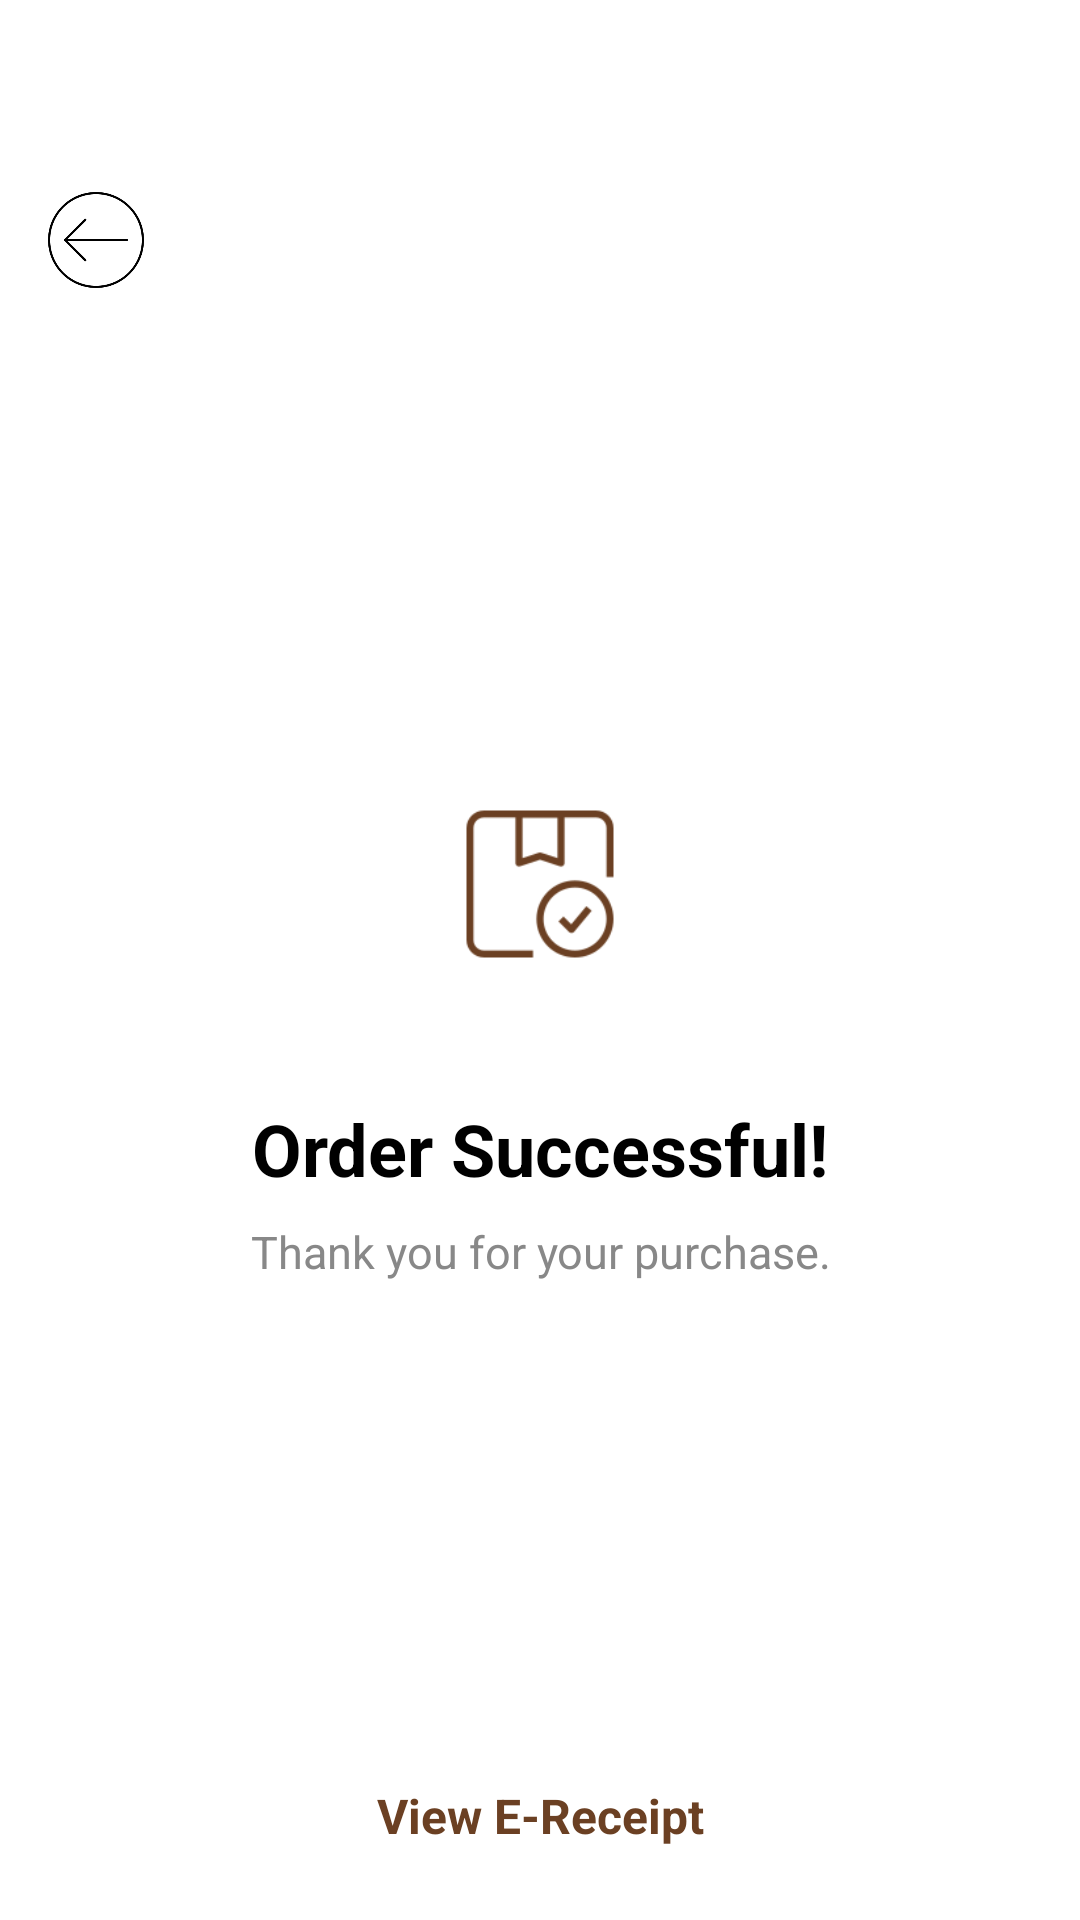

Icons on this 1080w x 1920h Android screen, each with its box as (x1, y1, x2, y2):
Back: (48, 192, 144, 288)
